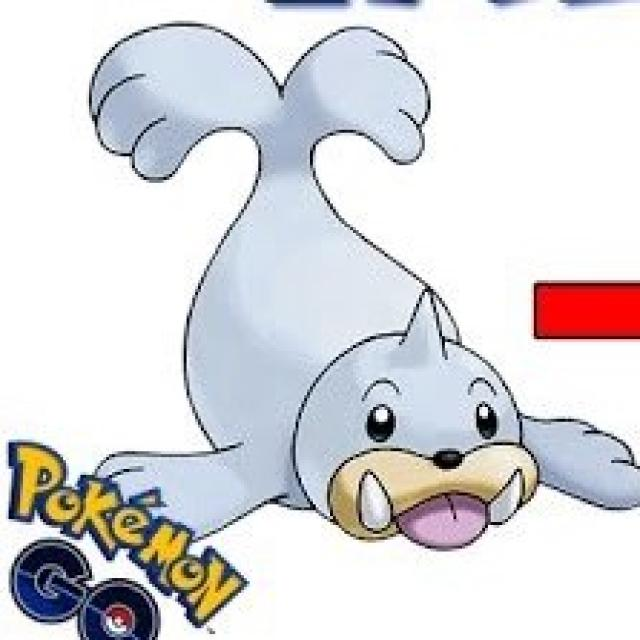Seel: (30, 15, 640, 542)
